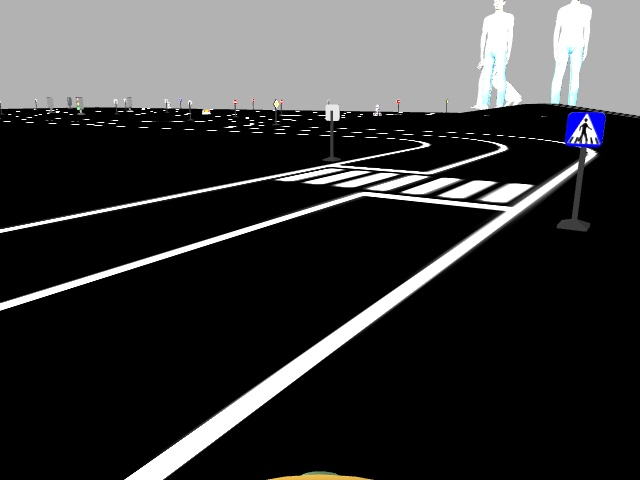Crosswalk: (565, 112, 603, 145)
